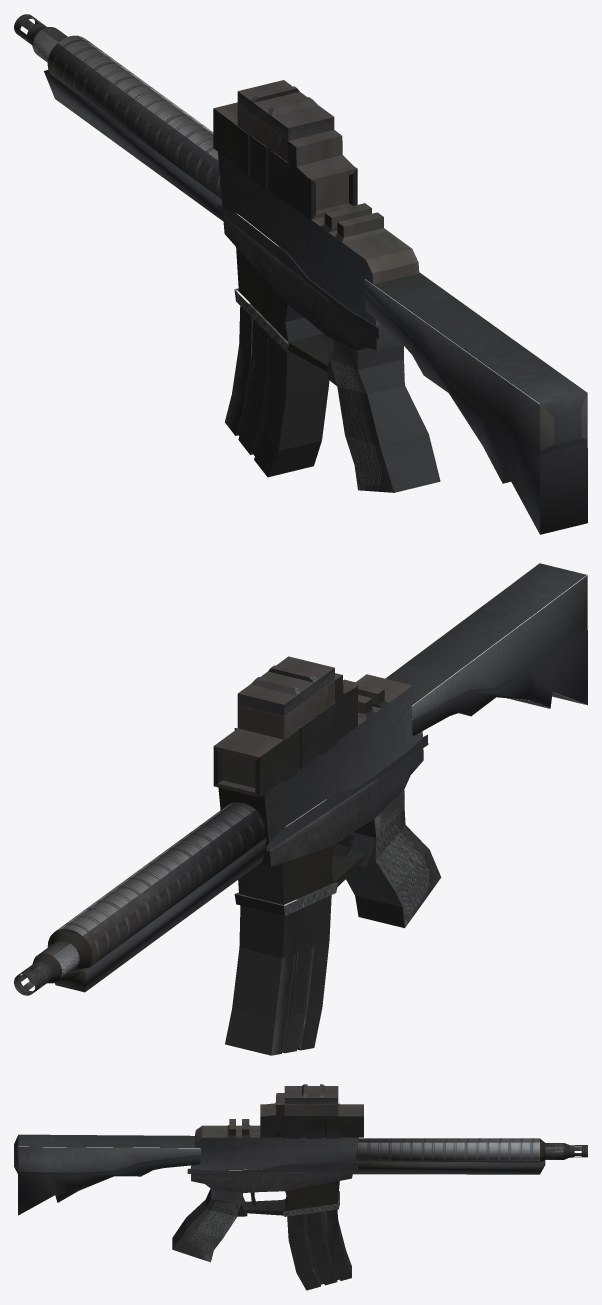
File: arma2.obj
3 renders of one model, top to bottom at view 1: azimuth 30°, elevation 25°; view 2: azimuth 150°, elevation 25°; view 3: azimuth 270°, elevation 25°, orthographic. The views are drawn at different scales.
Visible parts, largest first — view 1: Cube; view 2: Cube; view 3: Cube.
Boxes of the visible parts, left/top/right/bottom form: Cube: left=14, top=14, right=587, bottom=534; Cube: left=14, top=563, right=587, bottom=1055; Cube: left=14, top=1084, right=587, bottom=1290.
Bounding box in the file's own units: 0.7114 × 5.08 × 13.54.
1 material, 1 textured.
